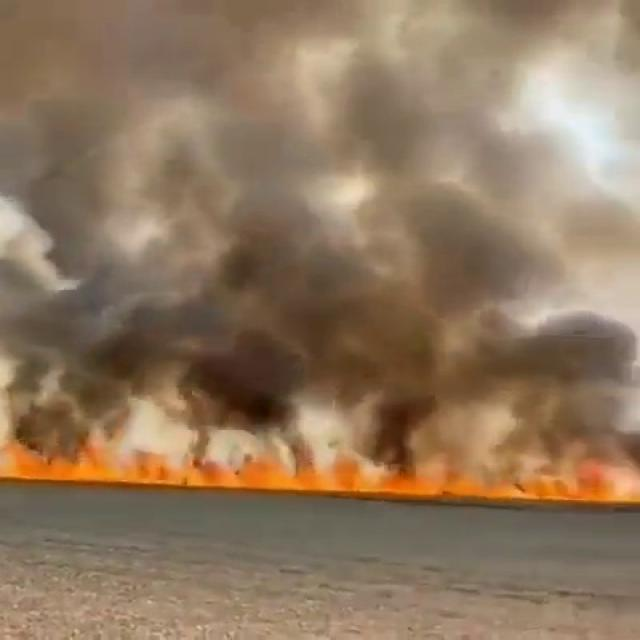Fire: (0, 446, 640, 512)
